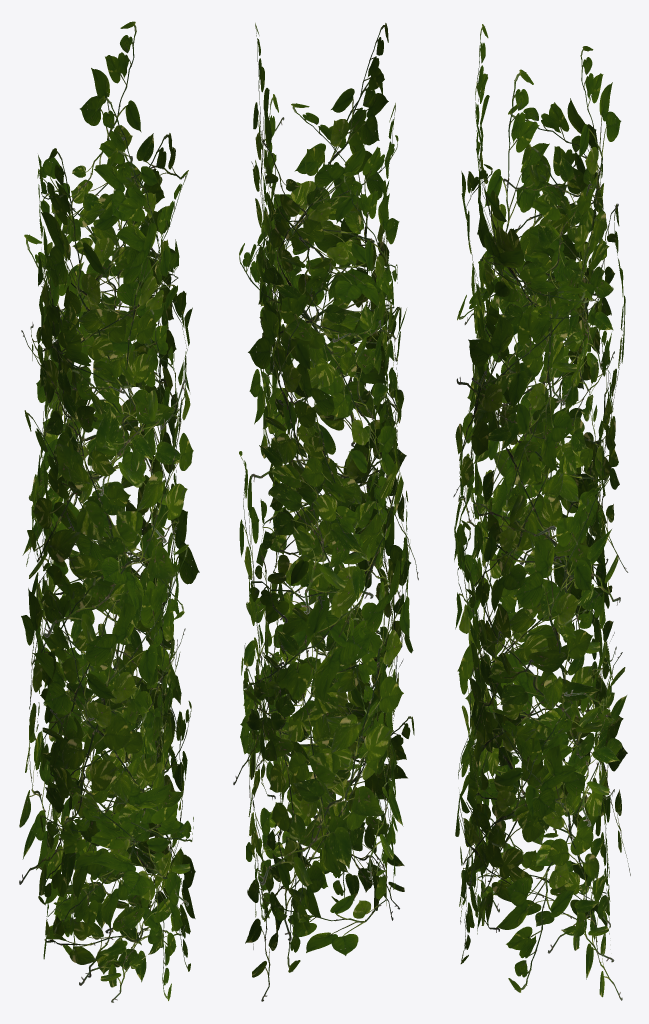
The model's file is SM_Prop_Ivy_Cylinder.fbx.
3 views of the same model, side by side, from view 1: azimuth 30°, elevation 25°; view 2: azimuth 150°, elevation 25°; view 3: azimuth 270°, elevation 25° (orthographic).
Parts seen in each view (by area): view 1: SM_Prop_Ivy_Cylinder_LOD0; view 2: SM_Prop_Ivy_Cylinder_LOD0; view 3: SM_Prop_Ivy_Cylinder_LOD0.
Part boxes in pixels (x1,y1,x2,y2): SM_Prop_Ivy_Cylinder_LOD0: (19,21,199,1002); SM_Prop_Ivy_Cylinder_LOD0: (233,23,418,1001); SM_Prop_Ivy_Cylinder_LOD0: (453,24,630,1000).
Size of the model in its own units: 44.3 by 43.6 by 254.
1 material, 1 textured.
